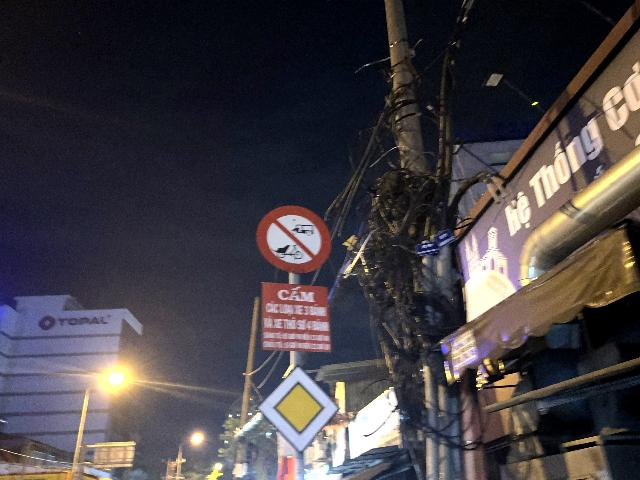bat-dau-duong-uu-tien: (256, 363, 341, 454)
cam-xe-3-banh-xe-tho-so-4-banh: (256, 204, 331, 274)
